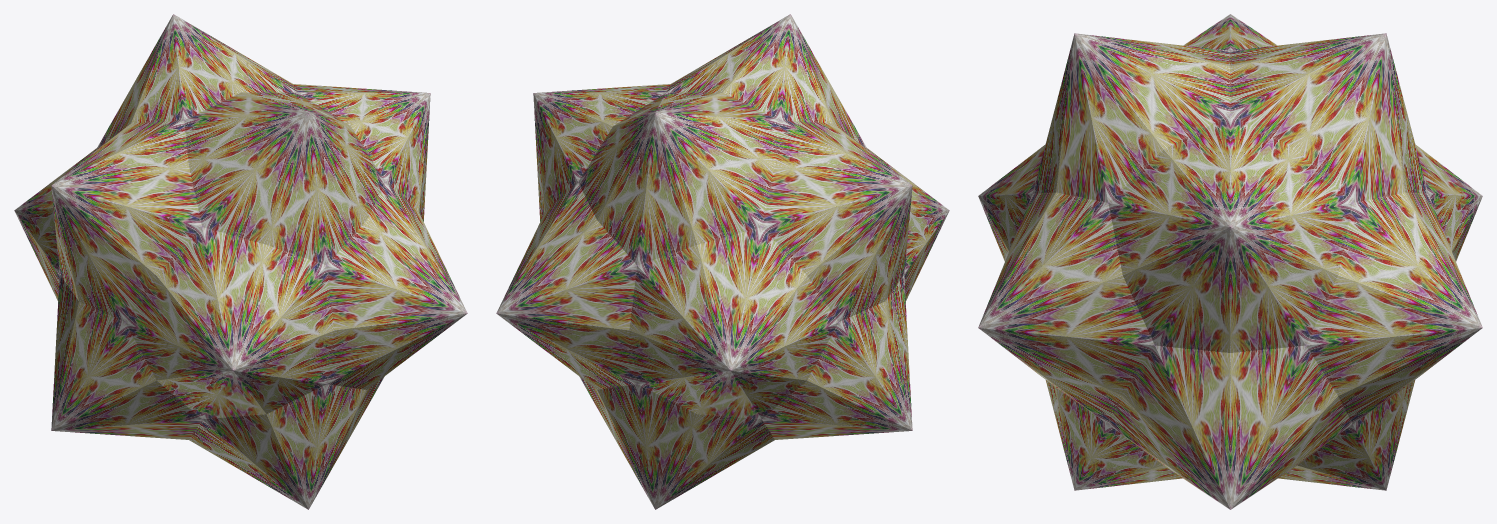
The model's file is SmallDodecacronicHexecontahedron5.obj.
3 views of the same model, side by side, from view 1: azimuth 30°, elevation 25°; view 2: azimuth 150°, elevation 25°; view 3: azimuth 270°, elevation 25° (orthographic). The views are drawn at different scales.
Size of the model in its own units: 5.24 by 5.24 by 5.24.
1 material, 1 textured.
